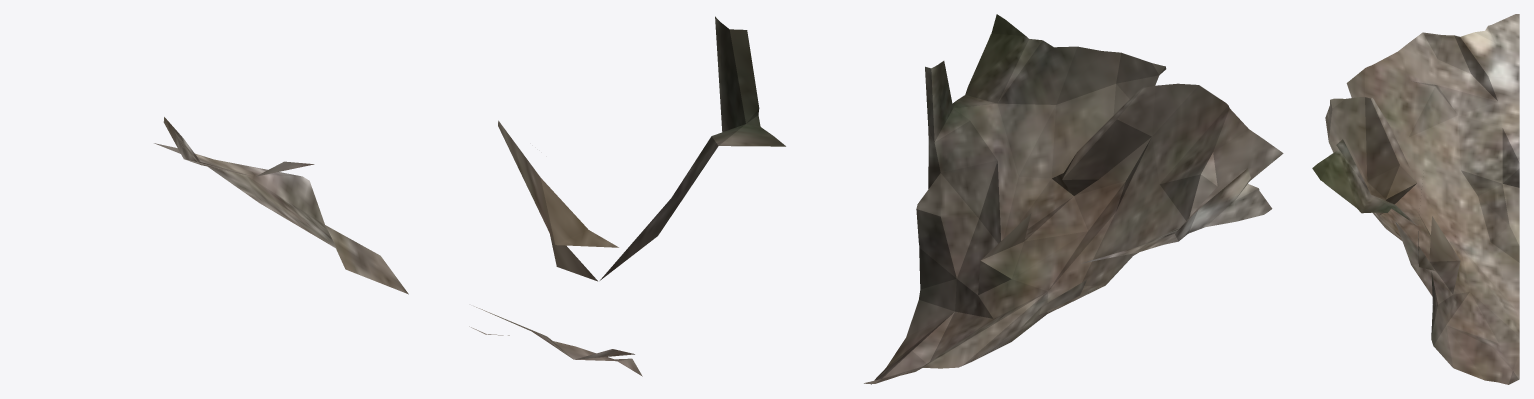
The picture shows the model from 3 angles, left to right: view 1: azimuth 30°, elevation 25°; view 2: azimuth 150°, elevation 25°; view 3: azimuth 270°, elevation 25°; orthographic projection. The views are drawn at different scales.
Bounding box in the file's own units: 4.55 × 2.98 × 2.59.
Materials: 1 (1 with a texture image).
